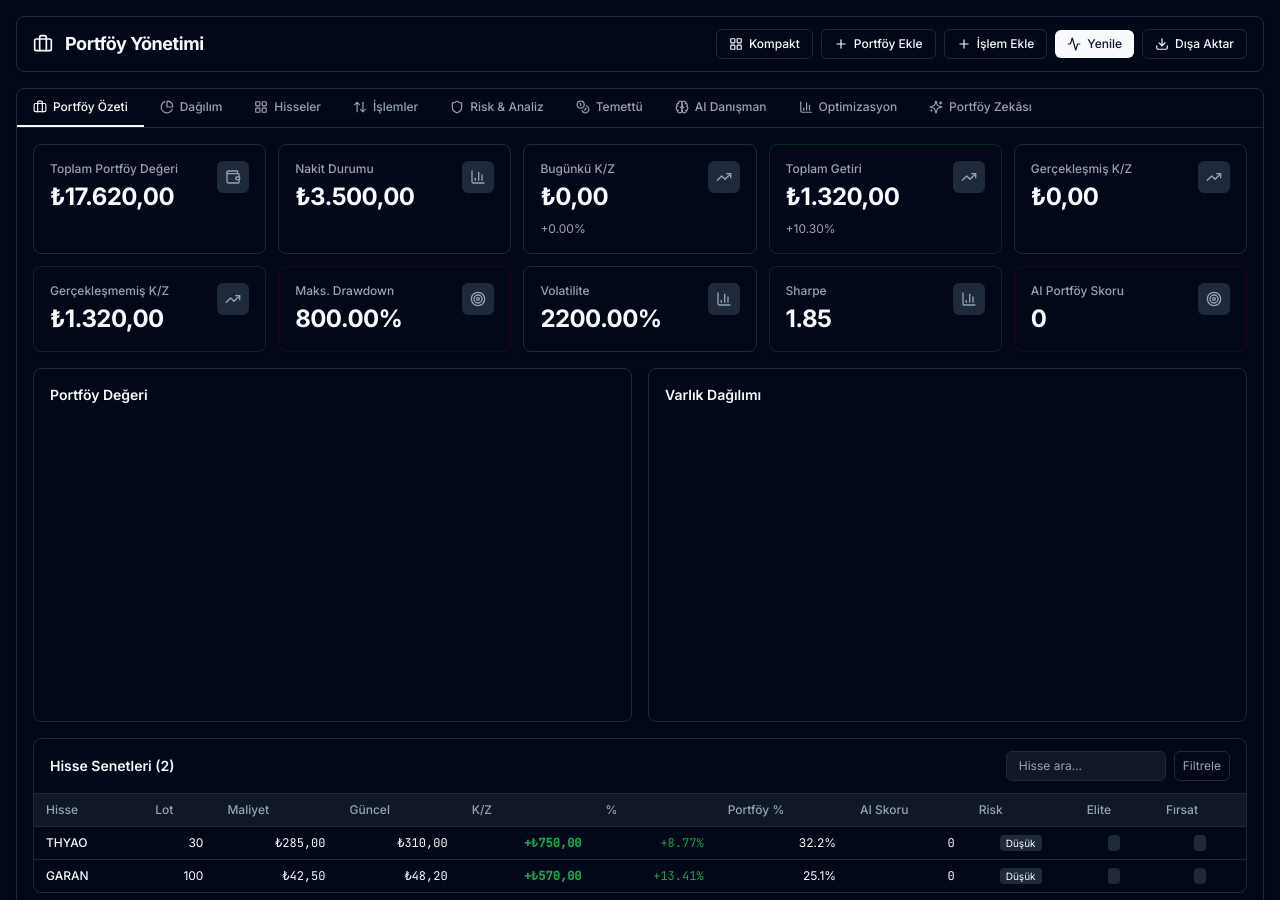
PortfolioPage › switches to transactions tab
The width and height of the screenshot is (1280, 900).
Step 1. Click the button "İşlemler" → (386, 108), box [337, 89, 434, 127]
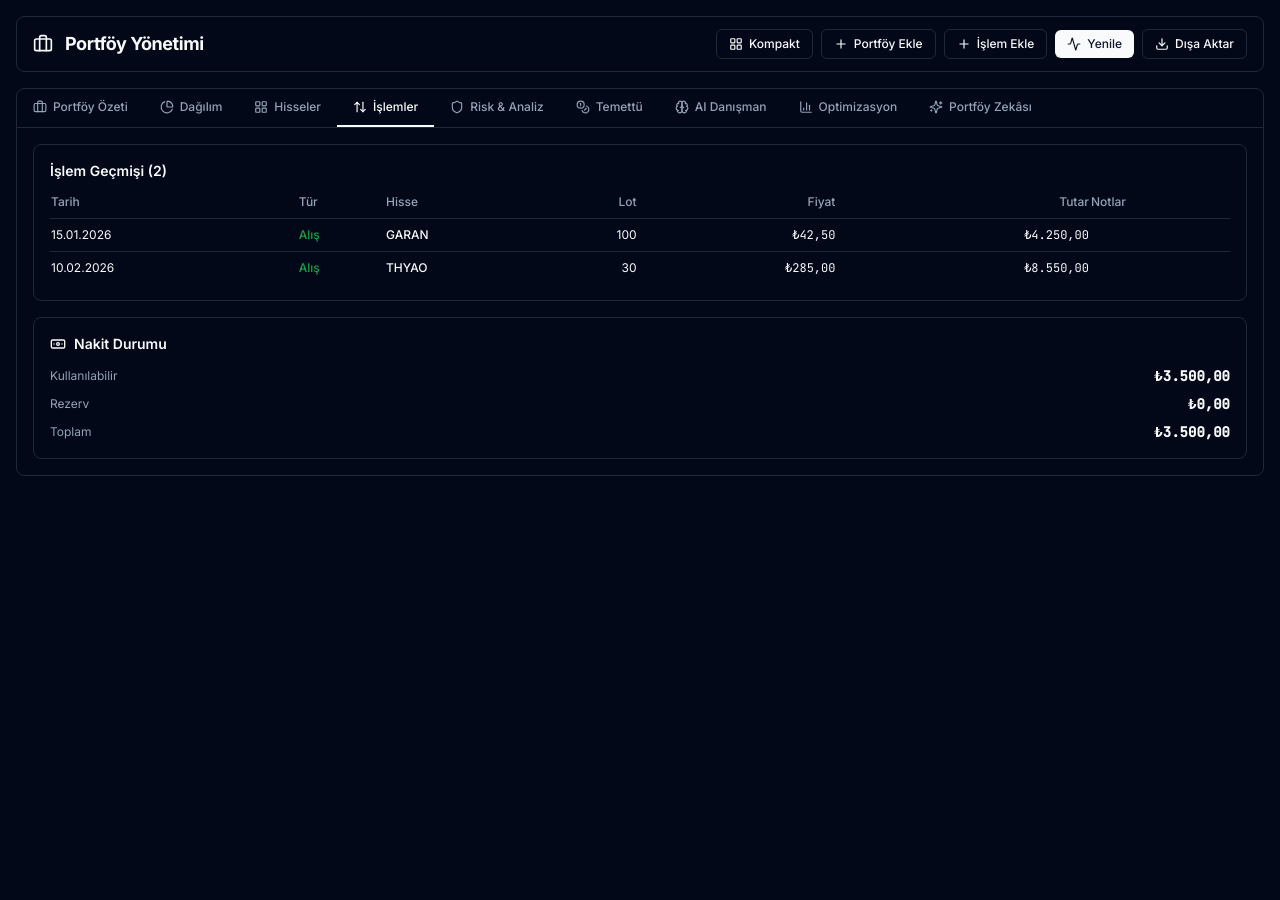
Expected: the heading "Nakit Durumu" is shown, [74, 334, 167, 354]
